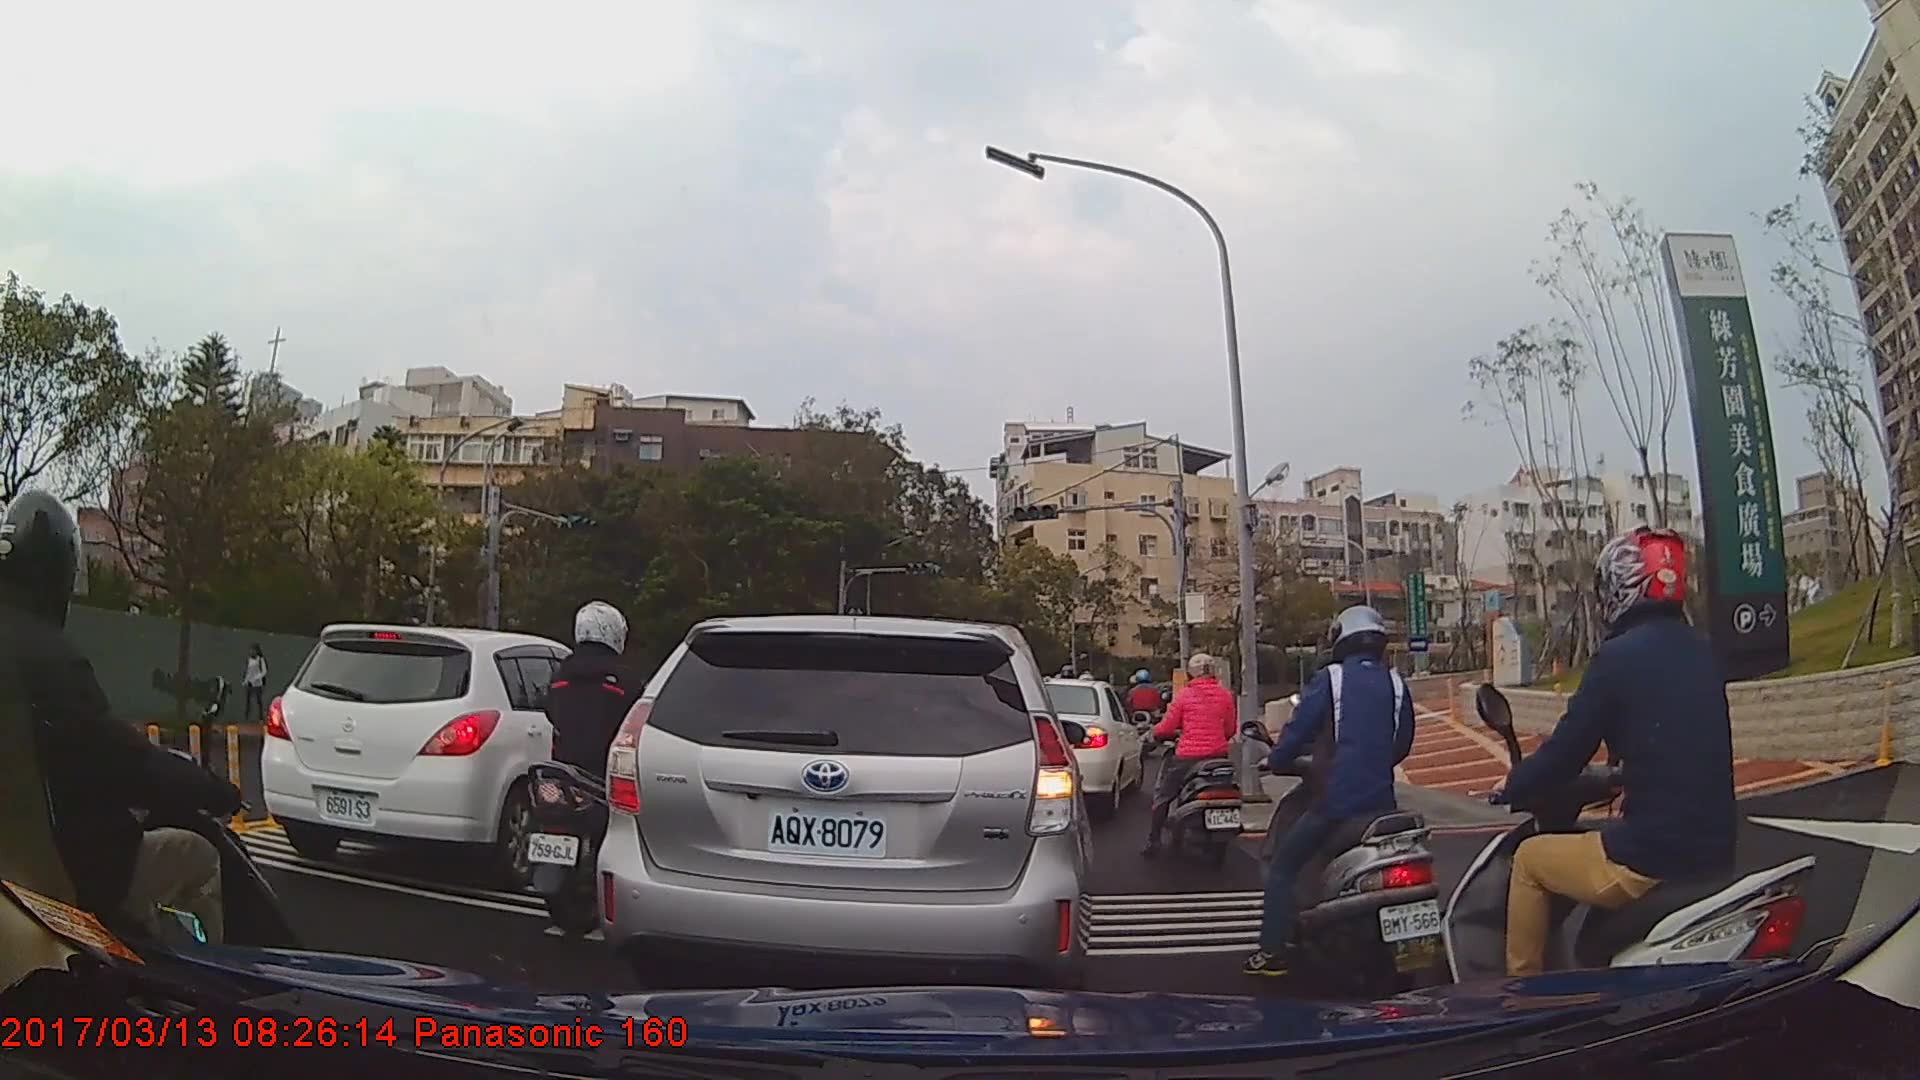pedestrian: (237, 645, 272, 724)
rider: (1437, 531, 1818, 1059), (1, 485, 314, 1080), (1241, 605, 1447, 1000), (523, 602, 673, 939), (1138, 652, 1246, 865), (1125, 668, 1166, 763)
vehicle: (594, 613, 1094, 995), (259, 622, 645, 882), (1037, 675, 1144, 817)
